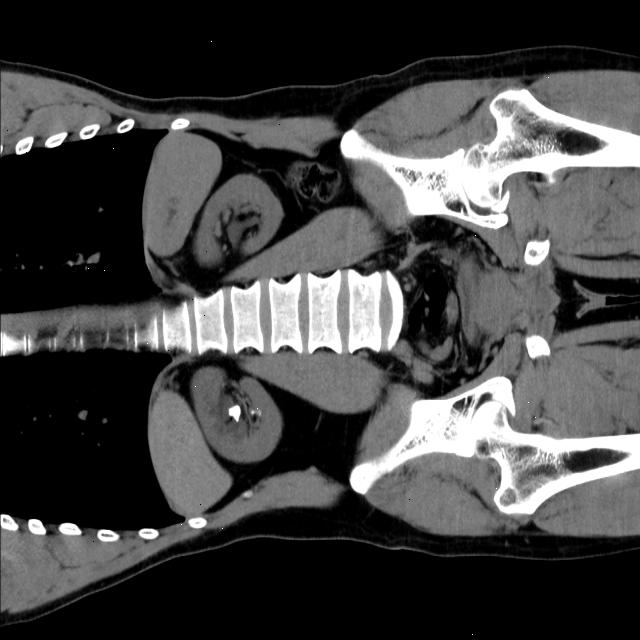kidneystone: (229, 403, 241, 420)
